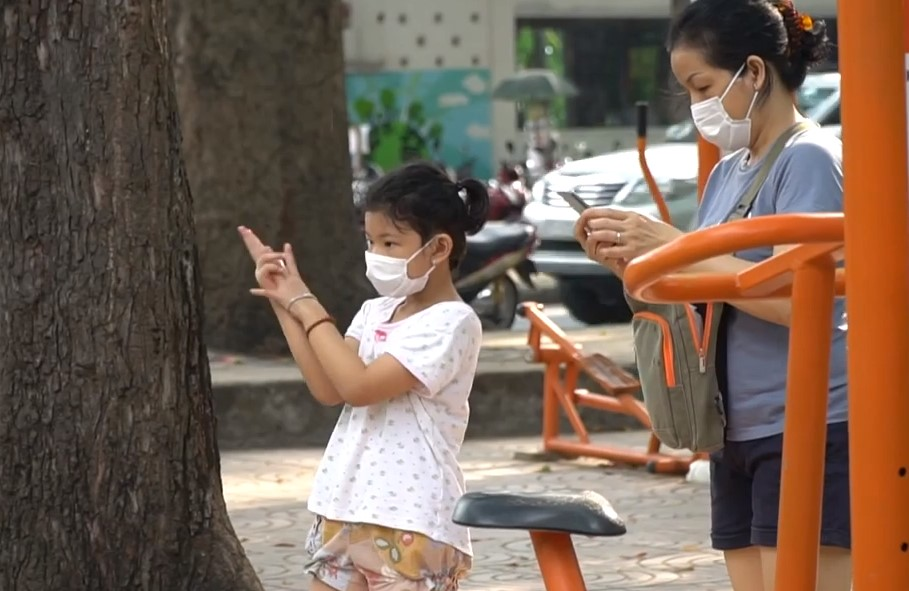face_with_mask: (668, 5, 802, 154), (359, 162, 462, 300)
